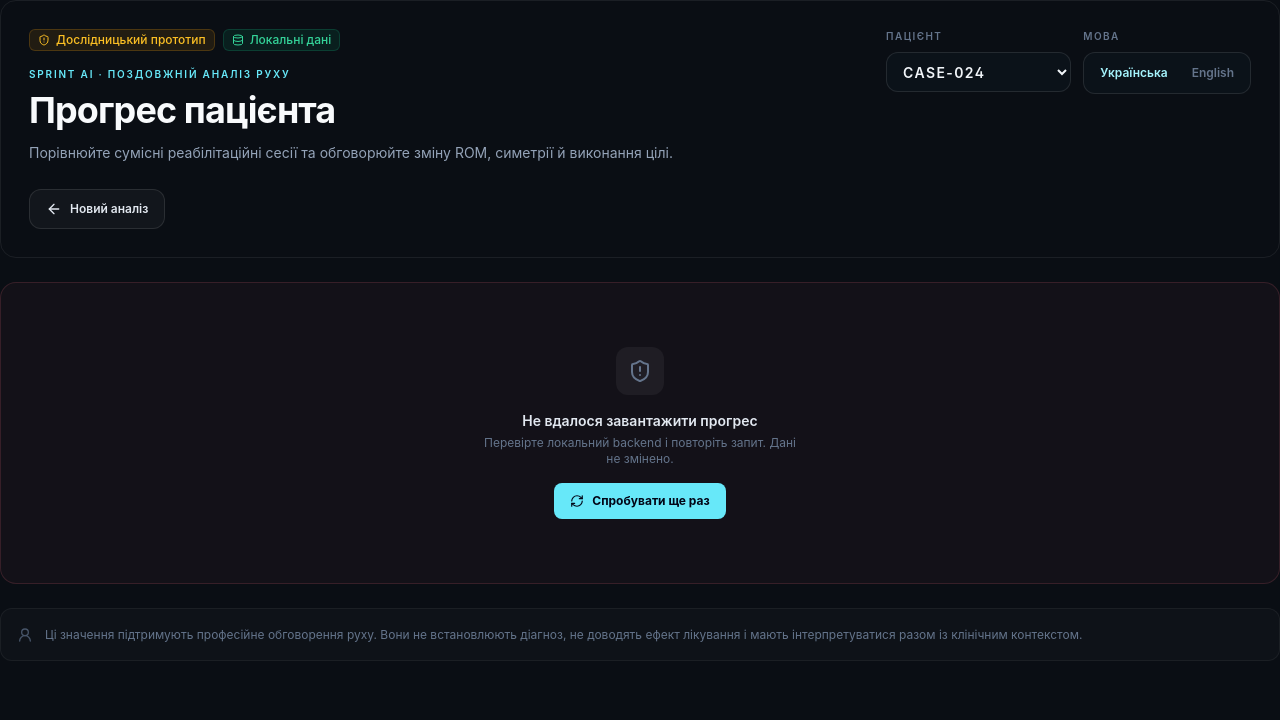
RehabProgressPage › shows an empty state and retries a failed request
The width and height of the screenshot is (1280, 720).
Check: the heading "Не вдалося завантажити прогрес" is shown, box [522,411,758,431]
Click the button "Спробувати ще раз": (640,501) [554,483,726,519]
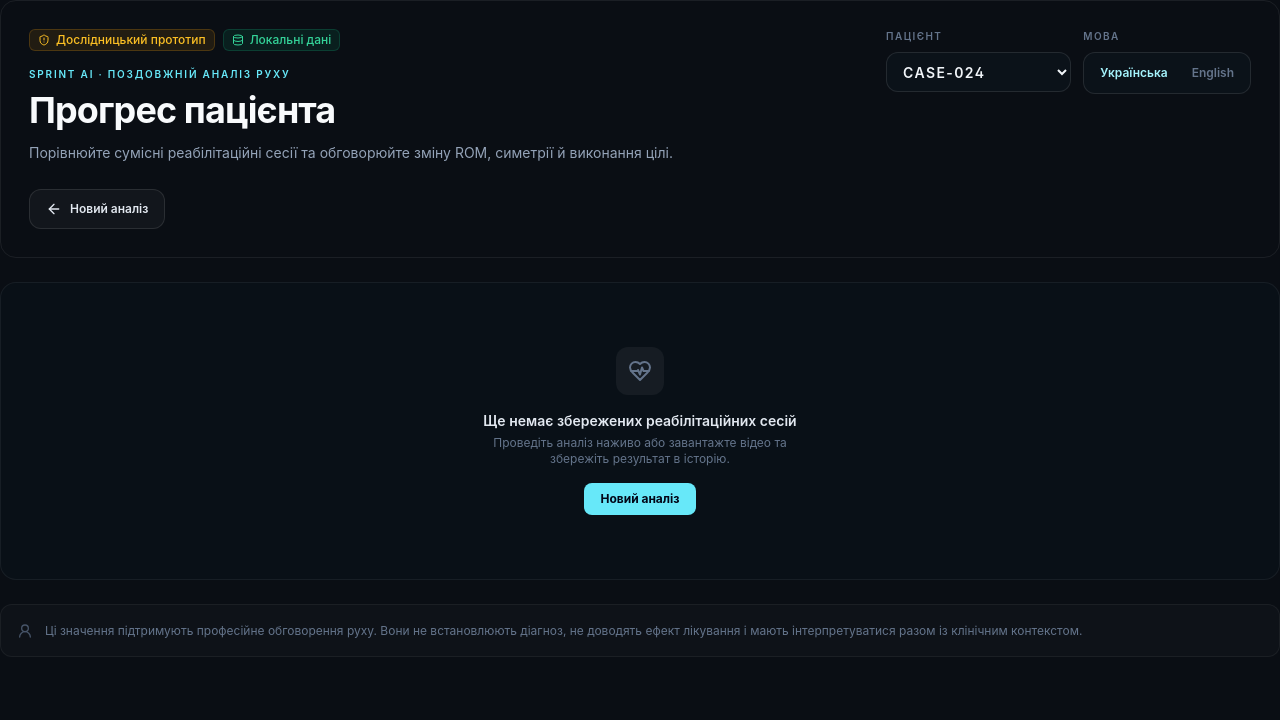
Check: the heading "Ще немає збережених реабілітаційних сесій" is shown, box [483,411,797,431]
